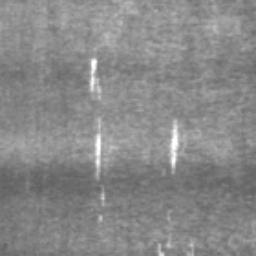White rust: (89, 57, 104, 100), (169, 118, 179, 176), (158, 231, 176, 256), (95, 116, 101, 182), (100, 185, 105, 208), (97, 214, 104, 224)
